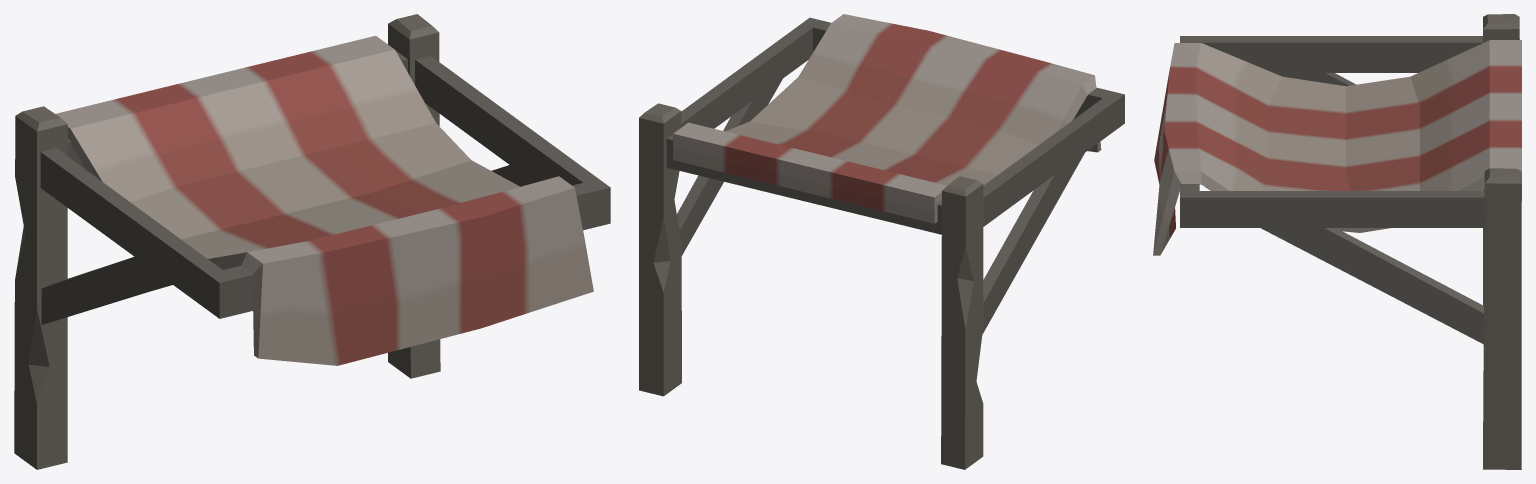
Rendered from SM_Bld_Village_ClothCover_Small_04.glb.
The picture shows the model from 3 angles, left to right: view 1: azimuth 30°, elevation 25°; view 2: azimuth 150°, elevation 25°; view 3: azimuth 270°, elevation 25°; orthographic projection. The views are drawn at different scales.
Visible parts, largest first — view 1: SM_Bld_Village_ClothCover_Small_04; view 2: SM_Bld_Village_ClothCover_Small_04; view 3: SM_Bld_Village_ClothCover_Small_04.
Boxes of the visible parts, x1,y1,x2,y2 form: SM_Bld_Village_ClothCover_Small_04: [14, 14, 610, 469]; SM_Bld_Village_ClothCover_Small_04: [639, 14, 1124, 469]; SM_Bld_Village_ClothCover_Small_04: [1153, 14, 1521, 469].
Bounding box in the file's own units: 2.01 × 1.63 × 1.88.
Materials: 1 (1 with a texture image).
